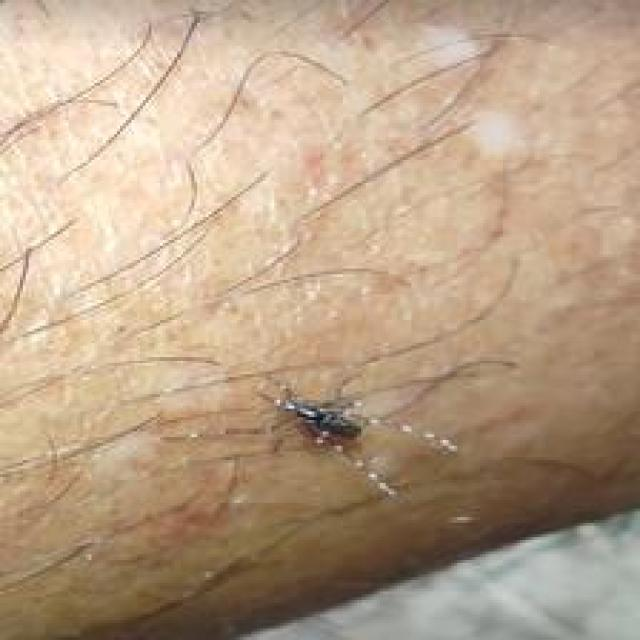Aedes albopictus: (271, 386, 366, 451)
